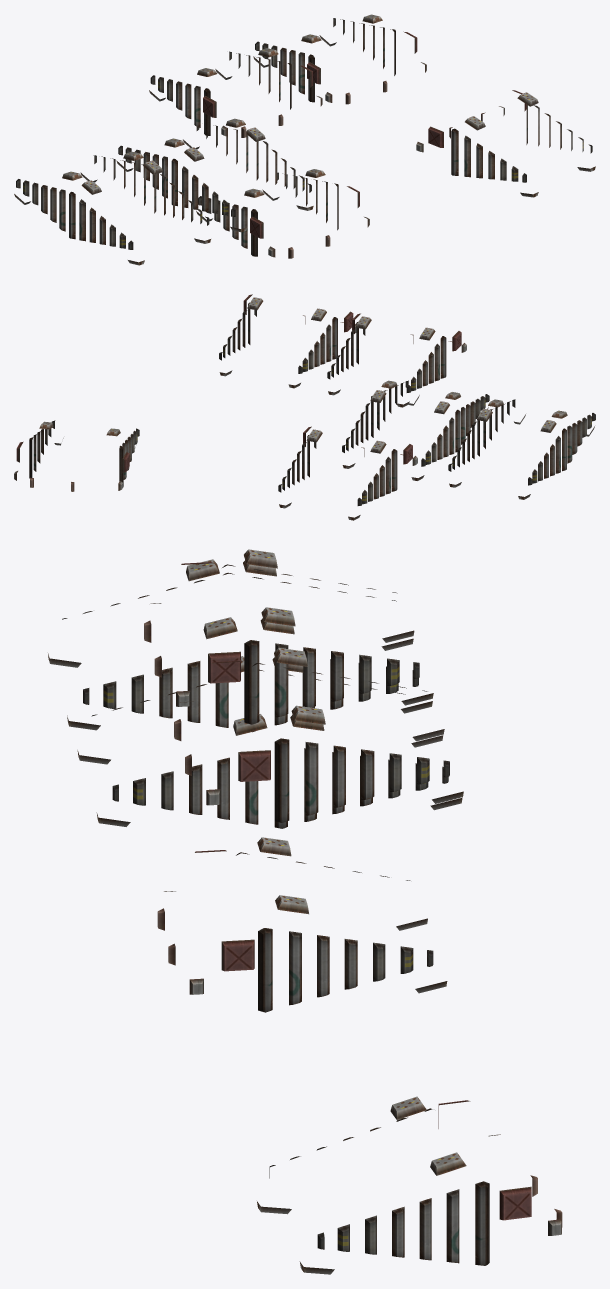
File: prop_static_tan_container_01_09.glb
3 views of the same model, one above another, from view 1: azimuth 30°, elevation 25°; view 2: azimuth 150°, elevation 25°; view 3: azimuth 270°, elevation 25° (orthographic). The views are drawn at different scales.
Parts seen in each view (by area): view 1: tan_container_01_09_LOD0; view 2: tan_container_01_09_LOD0; view 3: tan_container_01_09_LOD0.
Boxes of the visible parts, x1,y1,x2,y2 form: tan_container_01_09_LOD0: [14, 14, 595, 265]; tan_container_01_09_LOD0: [14, 294, 595, 520]; tan_container_01_09_LOD0: [48, 549, 562, 1274].
Size of what is drawn, in the model's own units: 12.07 by 4.44 by 5.4.
Materials: 1 (1 with a texture image).
